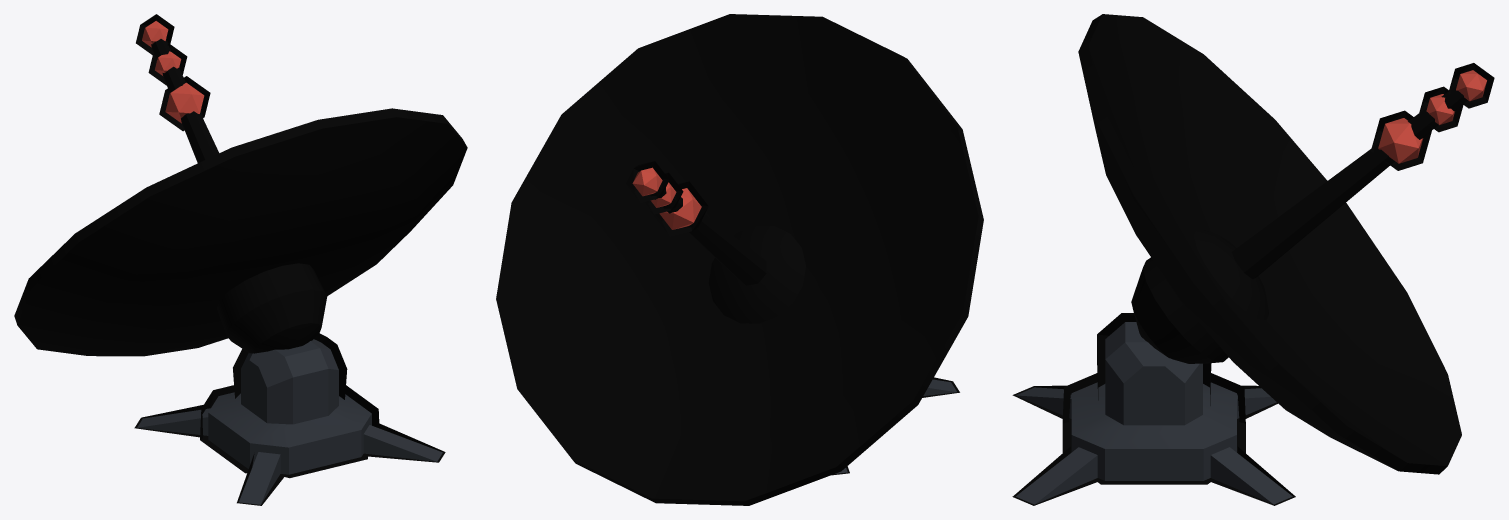
File: antena.fbx
3 renders of one model, left to right at view 1: azimuth 30°, elevation 25°; view 2: azimuth 150°, elevation 25°; view 3: azimuth 270°, elevation 25°, orthographic. The views are drawn at different scales.
Parts seen in each view (by area): view 1: antena, base, luzesDaAntena; view 2: antena, luzesDaAntena, base; view 3: antena, base, luzesDaAntena.
Boxes of the visible parts, x1,y1,x2,y2 form: antena: [14, 39, 467, 356]; base: [134, 333, 445, 505]; luzesDaAntena: [136, 14, 210, 131]; antena: [496, 14, 983, 505]; luzesDaAntena: [625, 161, 708, 236]; base: [831, 377, 959, 475]; antena: [1078, 14, 1467, 474]; base: [1012, 313, 1295, 505]; luzesDaAntena: [1371, 63, 1494, 170].
Size of the model in its own units: 692 by 535 by 584.
